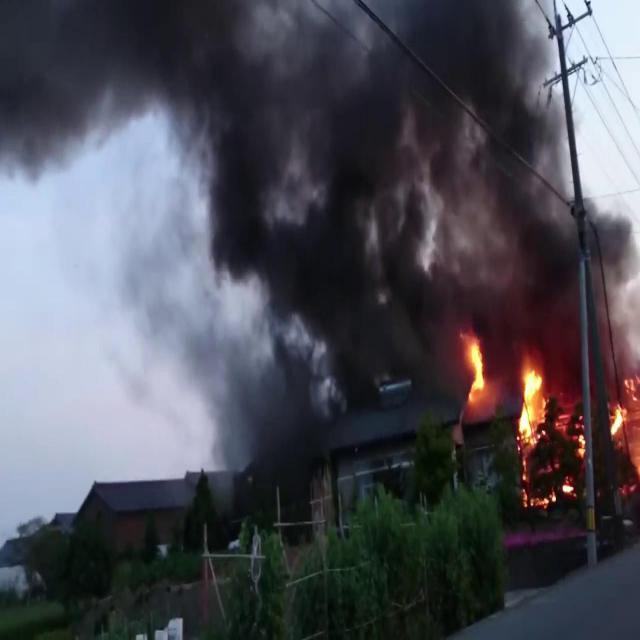Fire: (518, 366, 548, 443), (464, 337, 486, 401), (608, 406, 624, 436), (522, 492, 556, 506), (561, 480, 574, 496)
